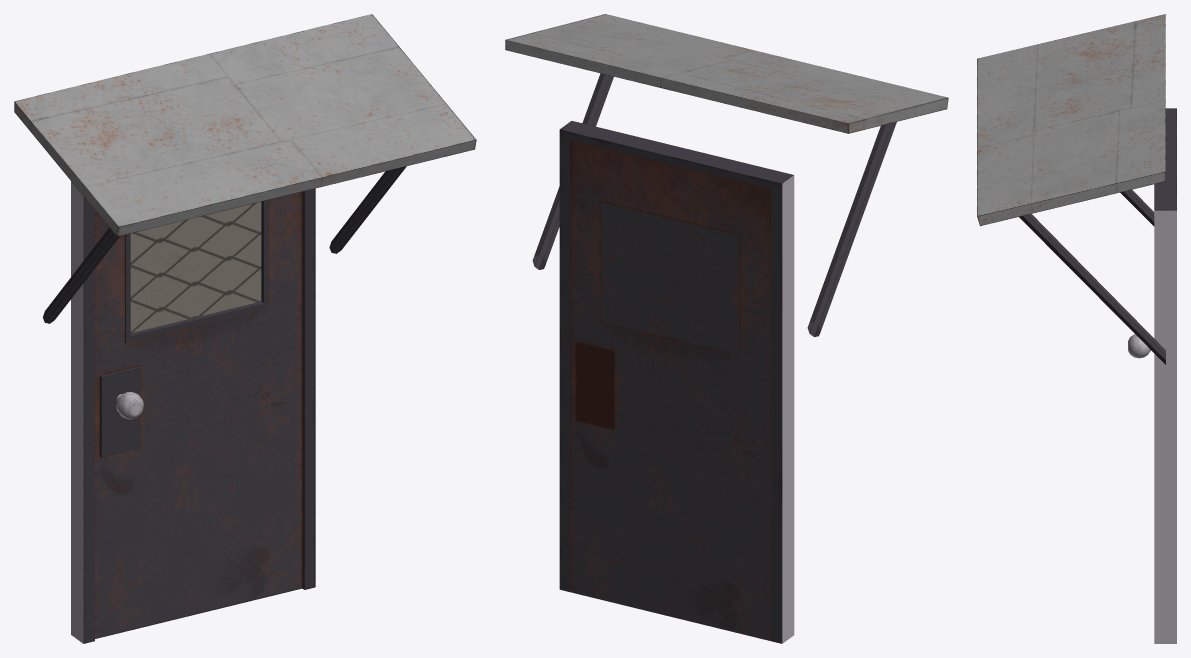
Rendered from Door_Model.fbx.
3 views of the same model, side by side, from view 1: azimuth 30°, elevation 25°; view 2: azimuth 150°, elevation 25°; view 3: azimuth 270°, elevation 25° (orthographic). The views are drawn at different scales.
Parts seen in each view (by area): view 1: Cube; view 2: Cube; view 3: Cube.
Boxes of the visible parts, x1,y1,x2,y2 form: Cube: (14,14,476,643); Cube: (505,14,948,643); Cube: (977,14,1176,643).
Bounding box in the file's own units: 937 × 1384 × 501.
